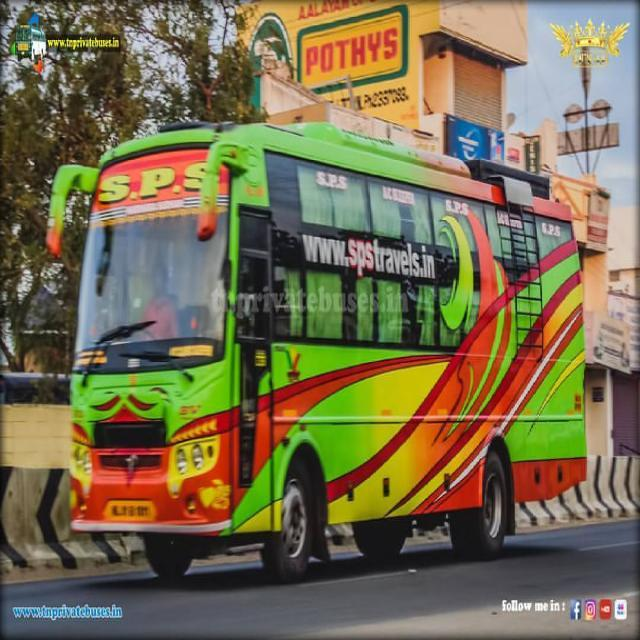Bus: (45, 117, 590, 582)
